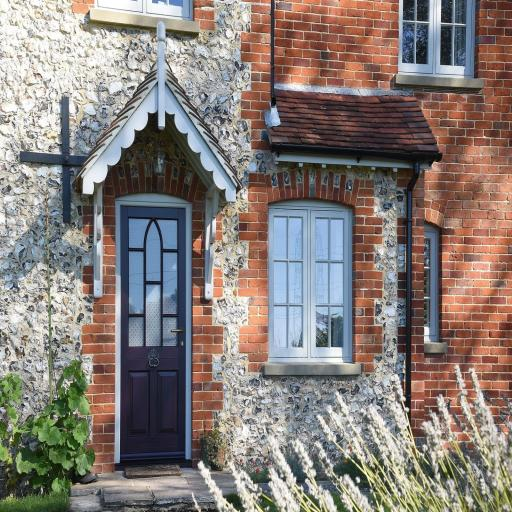door: (100, 177, 212, 476)
